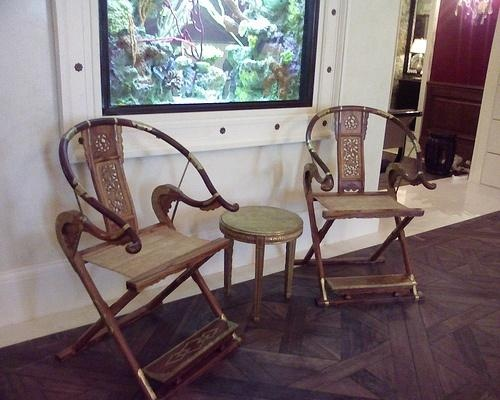chair: (52, 117, 245, 400), (302, 104, 426, 308)
